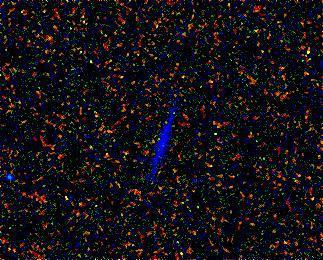star: (140, 130, 170, 160)
